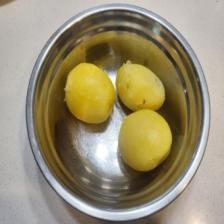Potato: (118, 106, 172, 172), (64, 60, 116, 125), (115, 58, 166, 114)
